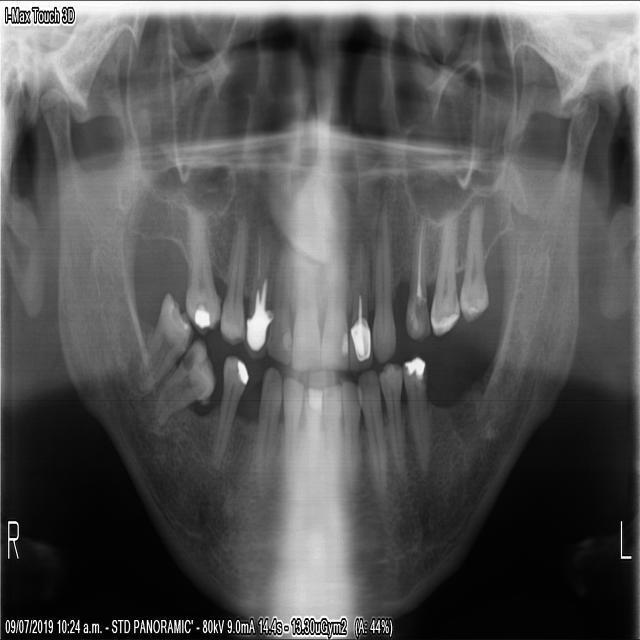LCD: (341, 378, 361, 489)
LCU: (371, 201, 396, 366)
LID: (301, 382, 322, 491), (323, 384, 342, 496)
LIU: (321, 230, 348, 374), (348, 233, 371, 371)
LMD: (401, 352, 430, 474)
LMU: (428, 203, 460, 336), (457, 199, 489, 326)
LPMD: (356, 370, 387, 499), (378, 363, 406, 472)
LPMU: (403, 208, 430, 342)
RCU: (244, 218, 275, 361)
RID: (253, 361, 280, 501), (280, 372, 301, 486)
RIU: (288, 208, 322, 373), (262, 210, 294, 364)
RMD: (131, 286, 192, 395), (151, 333, 215, 431), (183, 205, 220, 339)
RPMD: (205, 351, 248, 477)
RPMU: (217, 208, 248, 347)
